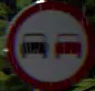No overtake: (7, 1, 89, 89)
